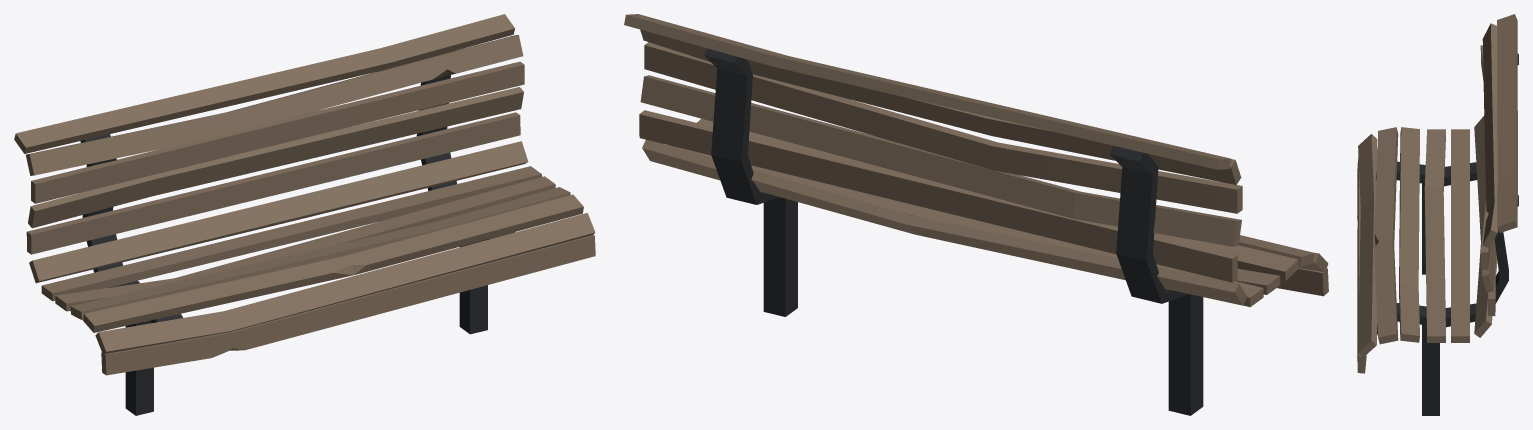
The model's file is SM_Prop_Benchseat_01.glb.
3 renders of one model, left to right at view 1: azimuth 30°, elevation 25°; view 2: azimuth 150°, elevation 25°; view 3: azimuth 270°, elevation 25°, orthographic. The views are drawn at different scales.
Visible parts, largest first — view 1: SM_Prop_Benchseat_01; view 2: SM_Prop_Benchseat_01; view 3: SM_Prop_Benchseat_01.
Part boxes in pixels (x1,y1,x2,y2): SM_Prop_Benchseat_01: (14, 14, 595, 415); SM_Prop_Benchseat_01: (624, 14, 1328, 415); SM_Prop_Benchseat_01: (1357, 14, 1518, 415).
Bounding box in the file's own units: 1.95 × 0.9909 × 0.6455.
1 material, 1 textured.
